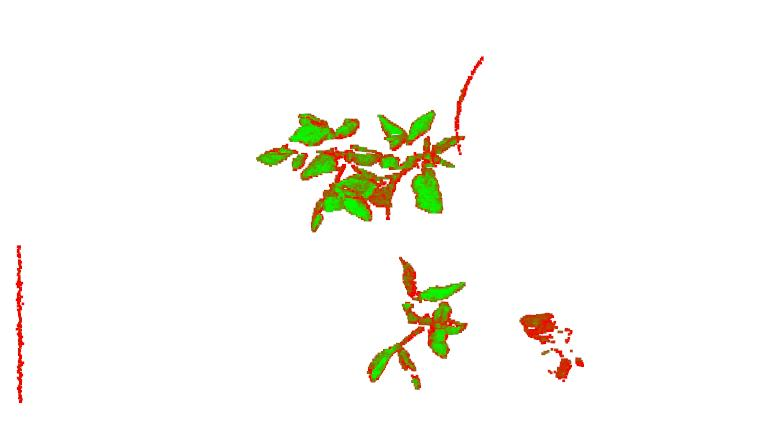mungbean: (252, 109, 376, 231), (369, 258, 468, 392), (366, 109, 470, 217)
